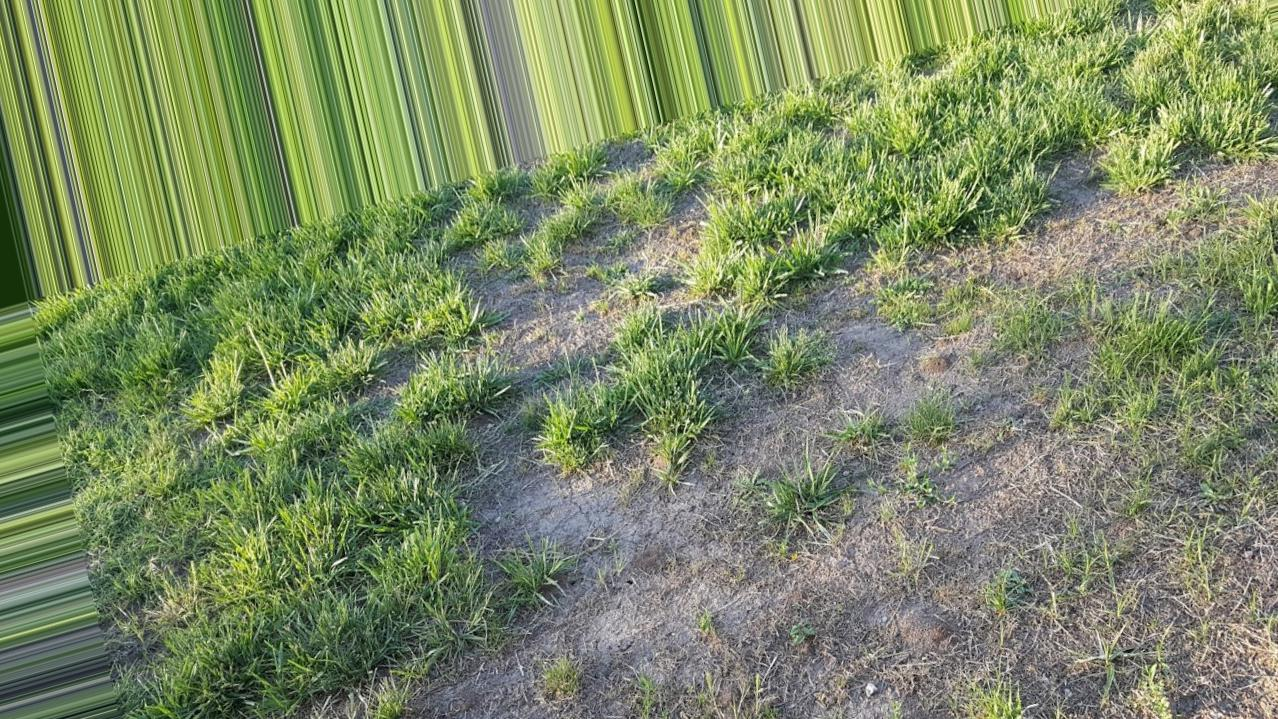patch: (841, 523, 1220, 719), (514, 537, 832, 719), (872, 369, 1082, 467), (480, 454, 619, 552), (587, 435, 726, 508), (748, 406, 841, 469), (514, 296, 575, 347)
